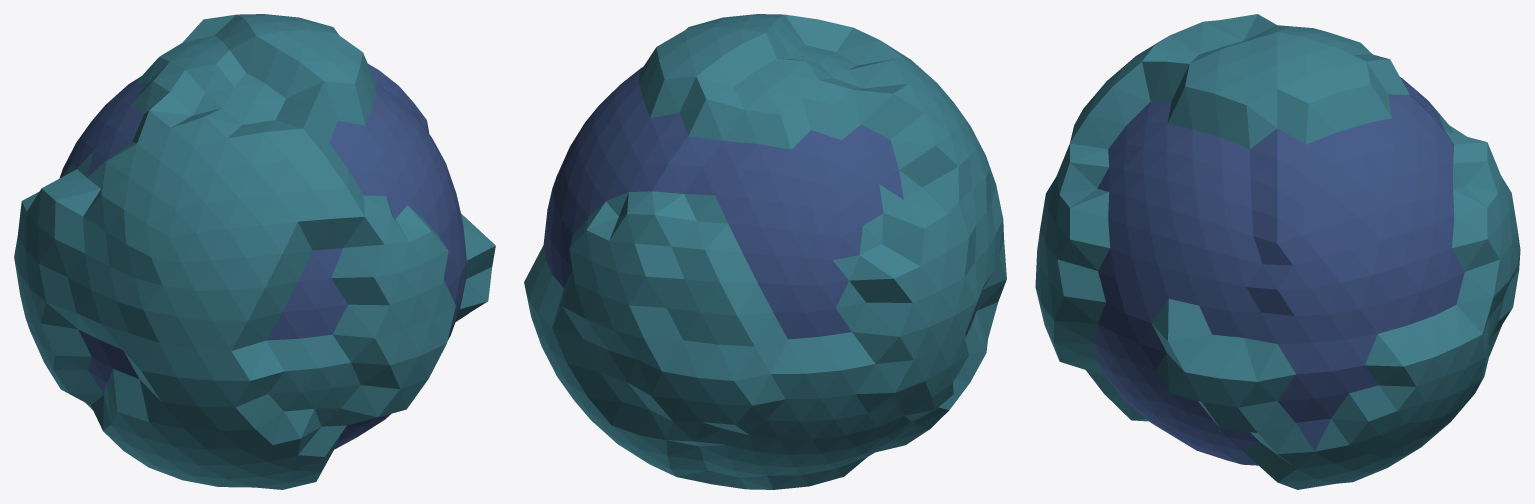
Rendered from planet_blue.fbx.
3 views of the same model, side by side, from view 1: azimuth 30°, elevation 25°; view 2: azimuth 150°, elevation 25°; view 3: azimuth 270°, elevation 25° (orthographic).
Parts seen in each view (by area): view 1: Icosphere.003; view 2: Icosphere.003; view 3: Icosphere.003.
Part boxes in pixels (<box>): Icosphere.003: <box>14,14,495,489</box>; Icosphere.003: <box>524,14,1006,489</box>; Icosphere.003: <box>1035,14,1520,489</box>.
Size of the model in its own units: 212 by 210 by 213.
